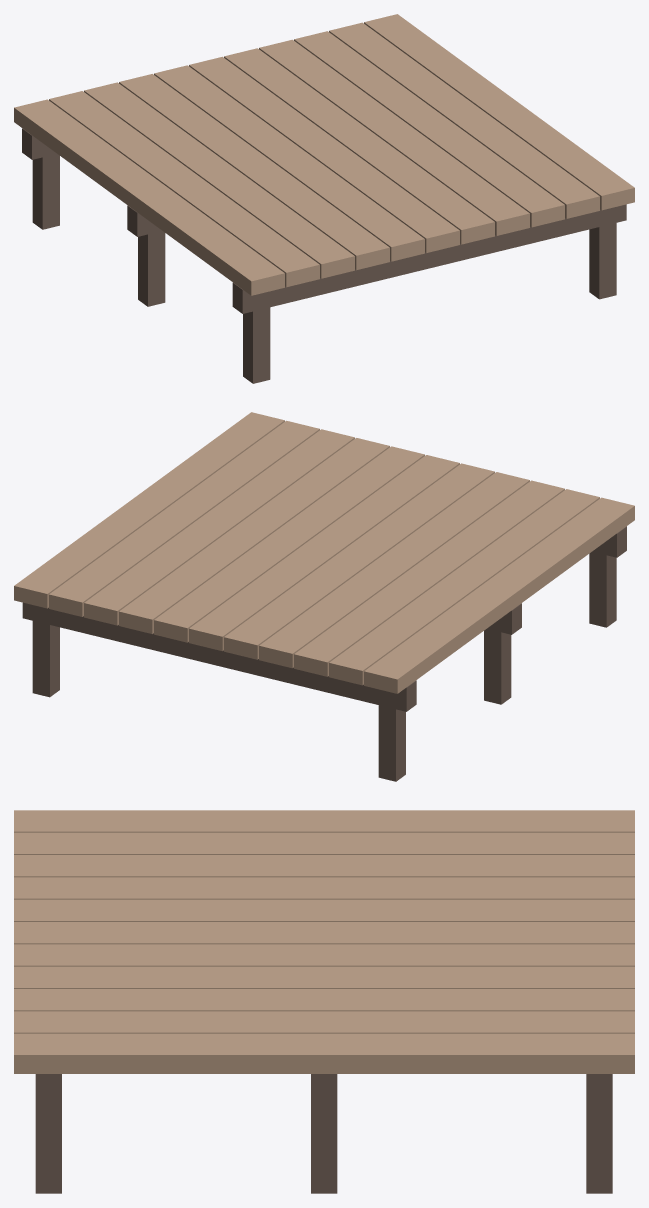
File: ecowood2grande_1666-1782_ natural.fbx
3 views of the same model, one above another, from view 1: azimuth 30°, elevation 25°; view 2: azimuth 150°, elevation 25°; view 3: azimuth 270°, elevation 25° (orthographic). The views are drawn at different scales.
Visible parts, largest first — view 1: ecowood2grande_1666-1782_ natural; view 2: ecowood2grande_1666-1782_ natural; view 3: ecowood2grande_1666-1782_ natural.
Part boxes in pixels (left/top/right/bottom): ecowood2grande_1666-1782_ natural: left=14, top=14, right=634, bottom=383; ecowood2grande_1666-1782_ natural: left=14, top=412, right=634, bottom=781; ecowood2grande_1666-1782_ natural: left=14, top=810, right=634, bottom=1193.
Bounding box in the file's own units: 166 × 46 × 178.
